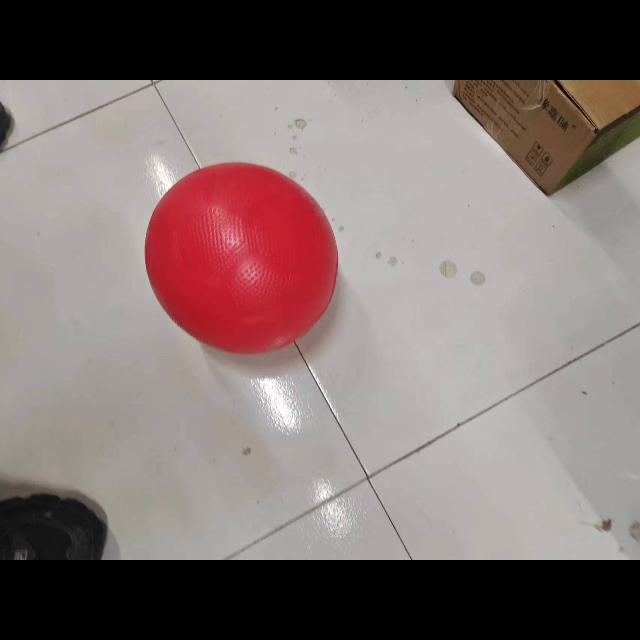R: (137, 155, 345, 357)
